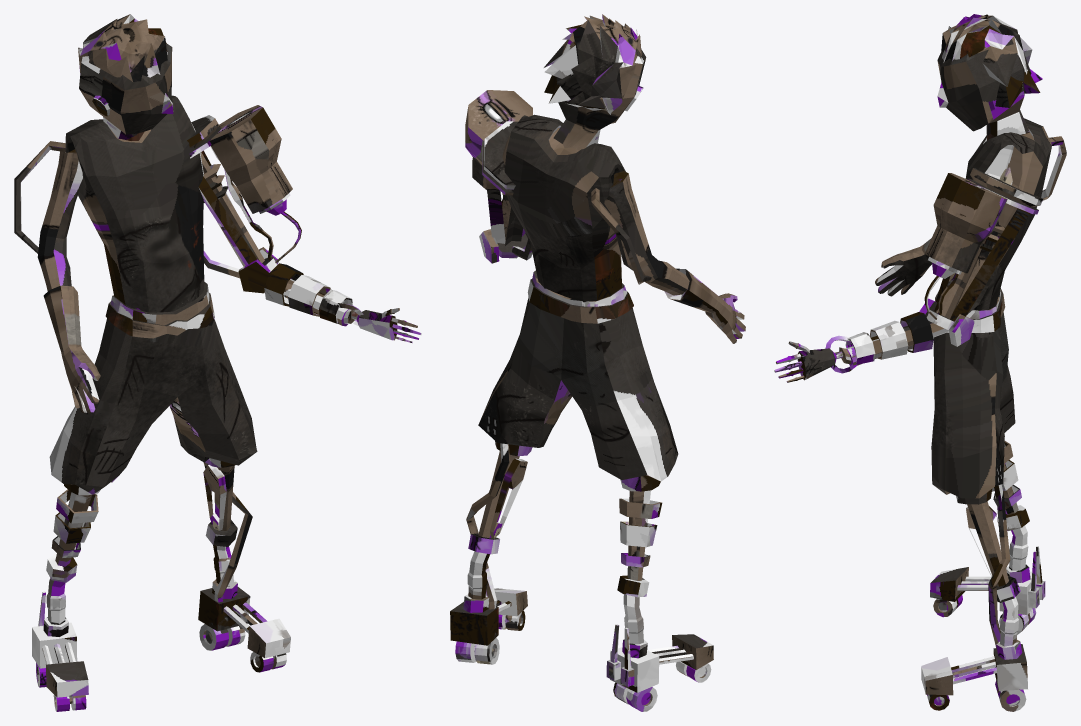
File: CyborgFINALAnimation_000012.obj
3 views of the same model, side by side, from view 1: azimuth 30°, elevation 25°; view 2: azimuth 150°, elevation 25°; view 3: azimuth 270°, elevation 25° (orthographic). The views are drawn at different scales.
Visible parts, largest first — view 1: CyborgMesh_Cube.002; view 2: CyborgMesh_Cube.002; view 3: CyborgMesh_Cube.002.
Boxes of the visible parts, x1,y1,x2,y2 form: CyborgMesh_Cube.002: (14, 14, 421, 711); CyborgMesh_Cube.002: (450, 14, 745, 711); CyborgMesh_Cube.002: (774, 14, 1066, 711).
Bounding box in the file's own units: 4.22 × 9.56 × 3.97.
